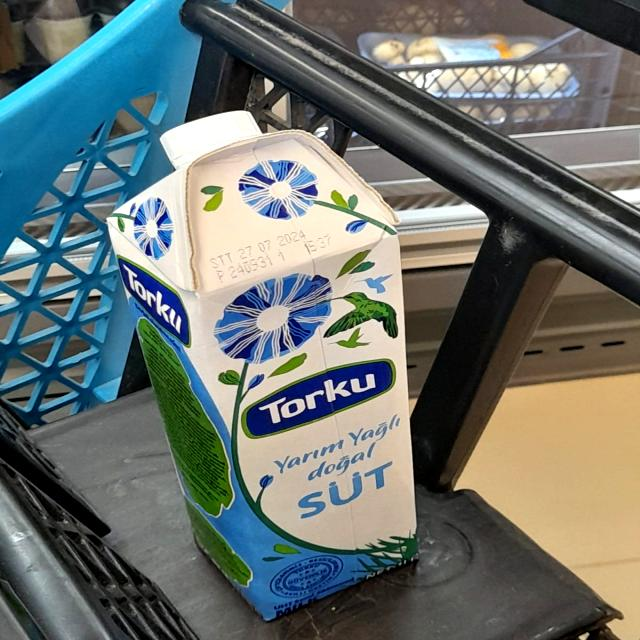milk: (97, 97, 436, 603)
